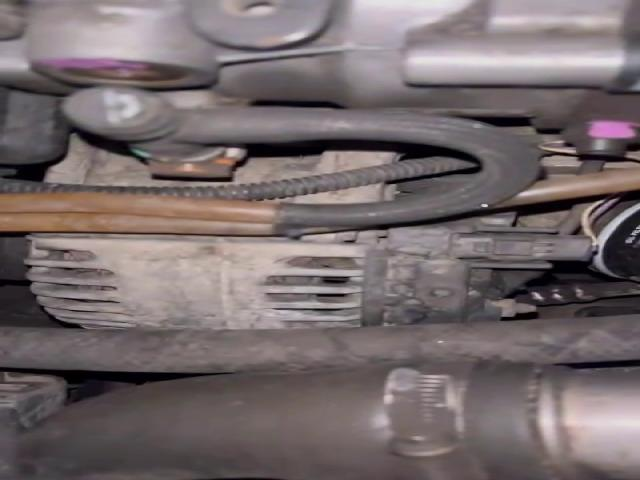alternator: (27, 213, 601, 331)
high_pressure_pump: (0, 0, 640, 156)
